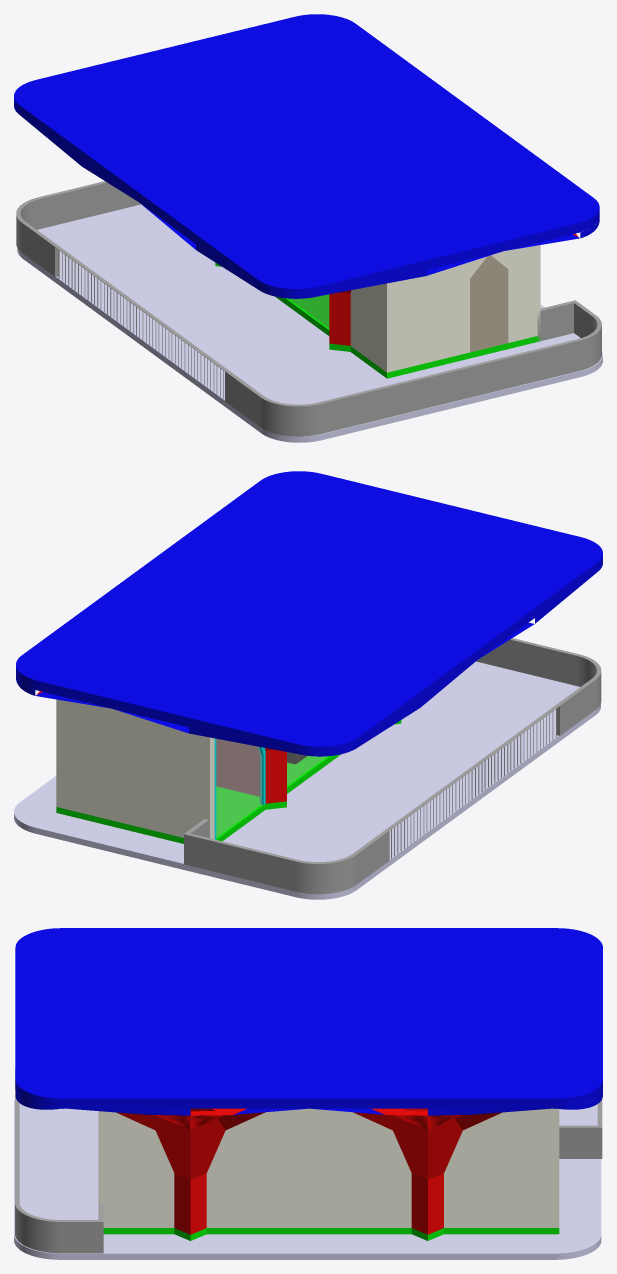
3 views of the same model, one above another, from view 1: azimuth 30°, elevation 25°; view 2: azimuth 150°, elevation 25°; view 3: azimuth 270°, elevation 25° (orthographic). The views are drawn at different scales.
Parts seen in each view (by area): view 1: slabs, FLOOR PLATES, railings, EXTERNAL WALLS, floors, columns, glasses; view 2: slabs, FLOOR PLATES, EXTERNAL WALLS, railings, glasses, floors, internal walls, columns; view 3: slabs, EXTERNAL WALLS, FLOOR PLATES, columns, railings, floors.
Part boxes in pixels (x1,y1,x2,y2): slabs: [14, 14, 599, 298]; FLOOR PLATES: [17, 204, 602, 442]; railings: [16, 181, 601, 436]; EXTERNAL WALLS: [350, 245, 540, 372]; floors: [215, 262, 540, 378]; columns: [329, 233, 578, 345]; glasses: [290, 294, 328, 327]; slabs: [16, 471, 602, 756]; FLOOR PLATES: [14, 661, 600, 899]; EXTERNAL WALLS: [56, 699, 214, 839]; railings: [184, 638, 601, 894]; glasses: [214, 738, 326, 839]; floors: [56, 720, 401, 843]; internal walls: [216, 739, 259, 796]; columns: [37, 691, 286, 803]; slabs: [15, 928, 602, 1115]; EXTERNAL WALLS: [98, 1108, 559, 1227]; FLOOR PLATES: [14, 1099, 601, 1259]; columns: [116, 1108, 502, 1234]; railings: [15, 1069, 602, 1253]; floors: [103, 1228, 559, 1240].
Bounding box in the file's own units: 8.82 × 3.83 × 12.78.
